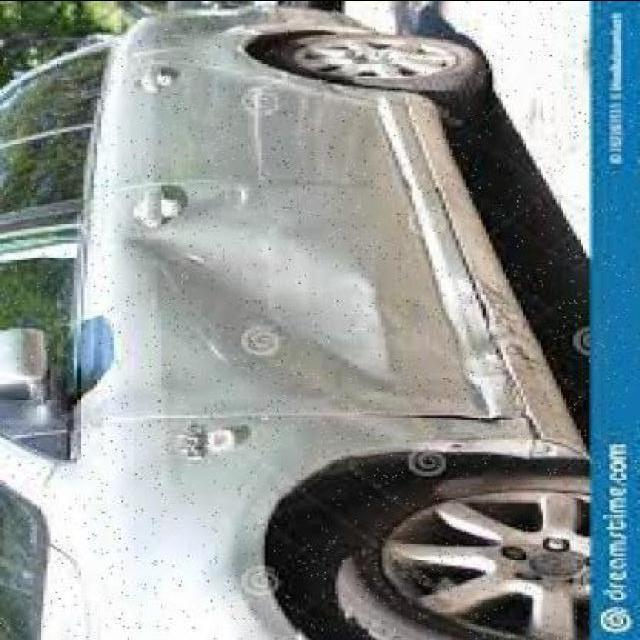RunningBoard-Dent: (463, 162, 567, 458)
doorouter-dent: (86, 190, 448, 423), (103, 43, 405, 189)
